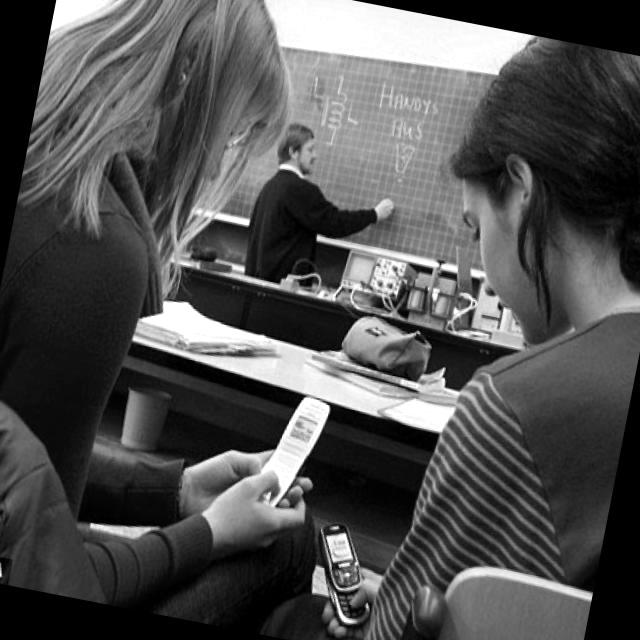phone: (252, 389, 332, 514), (302, 518, 386, 630)
